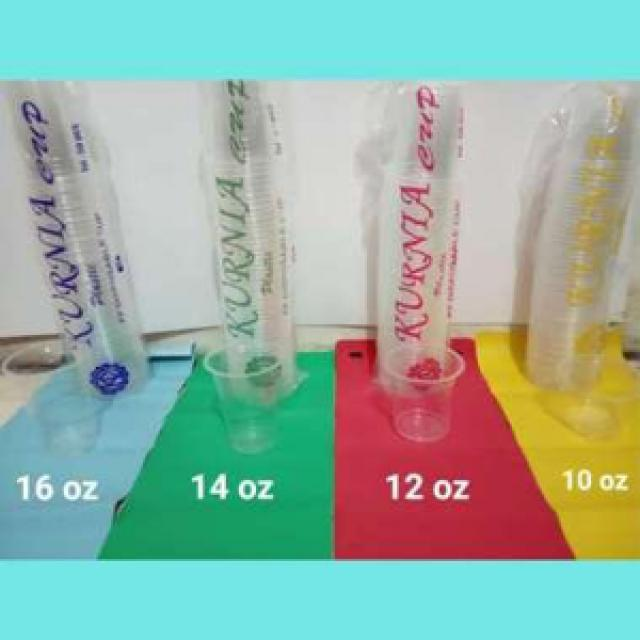plastic cup: (2, 330, 109, 460), (198, 333, 286, 461), (376, 343, 474, 448), (552, 350, 636, 454)
